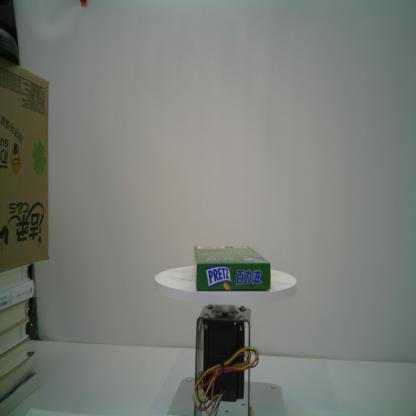Dessert: (193, 245, 271, 292)
